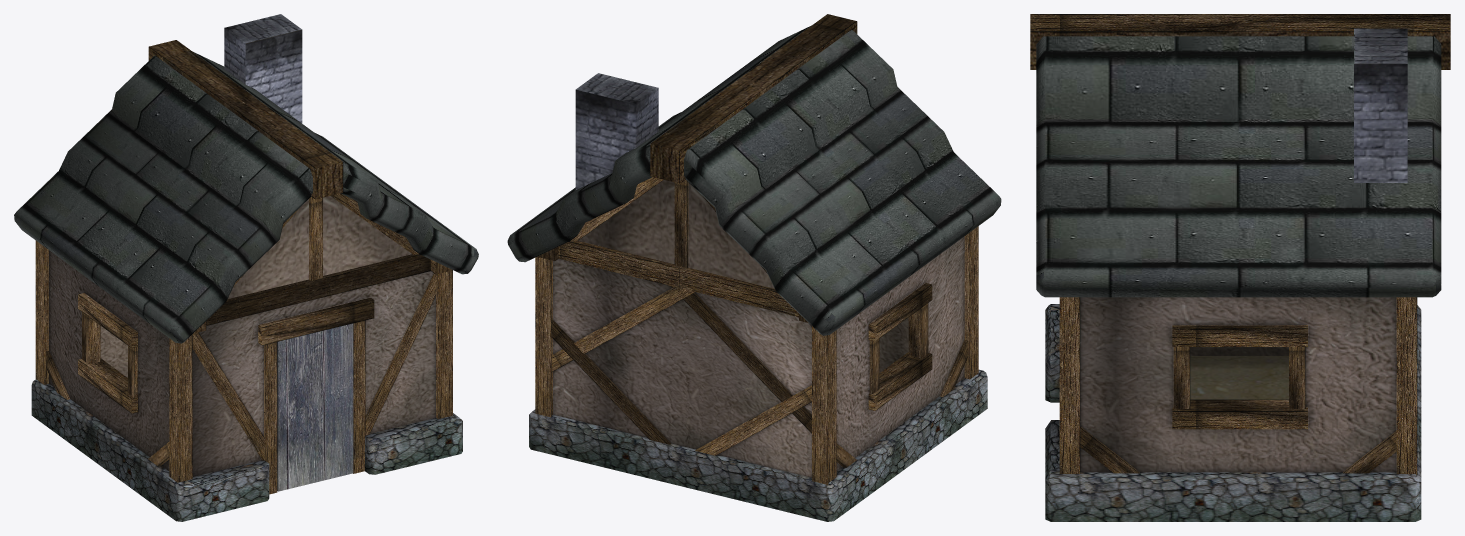
File: MyHouse.fbx
3 views of the same model, side by side, from view 1: azimuth 30°, elevation 25°; view 2: azimuth 150°, elevation 25°; view 3: azimuth 270°, elevation 25° (orthographic). The views are drawn at different scales.
Visible parts, largest first — view 1: HouseBody, HouseRoof-L, MyDoor, HouseRoof_R; view 2: HouseBody, HouseRoof-L, HouseRoof_R; view 3: HouseBody, HouseRoof_R.
Boxes of the visible parts, box(x1,y1,x2,y2) form: HouseBody: box(31, 14, 462, 521); HouseRoof-L: box(14, 55, 312, 343); MyDoor: box(277, 323, 353, 491); HouseRoof_R: box(193, 52, 478, 274); HouseBody: box(529, 14, 987, 521); HouseRoof-L: box(684, 29, 1001, 335); HouseRoof_R: box(507, 25, 811, 262); HouseBody: box(1030, 14, 1450, 521); HouseRoof_R: box(1036, 36, 1441, 297).
Bounding box in the file's own units: 543 × 576 × 506.
4 materials, 4 textured.
